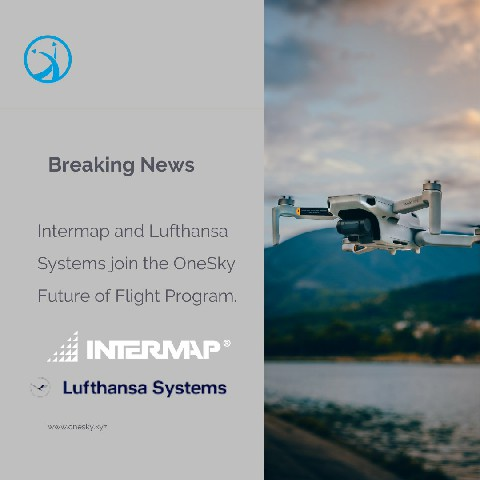maybay_khongnguoilai: (261, 170, 480, 262)
